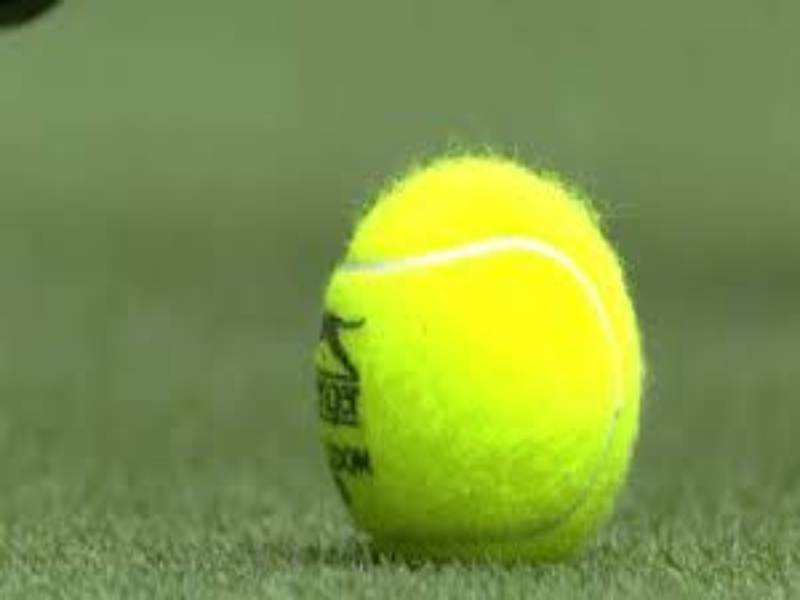tennis ball: (309, 140, 668, 578)
